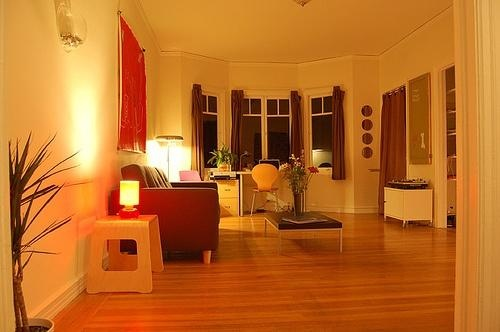chair: (249, 165, 282, 216)
pottedplant: (11, 134, 77, 332), (209, 145, 240, 175)
sofa: (109, 164, 221, 267)
